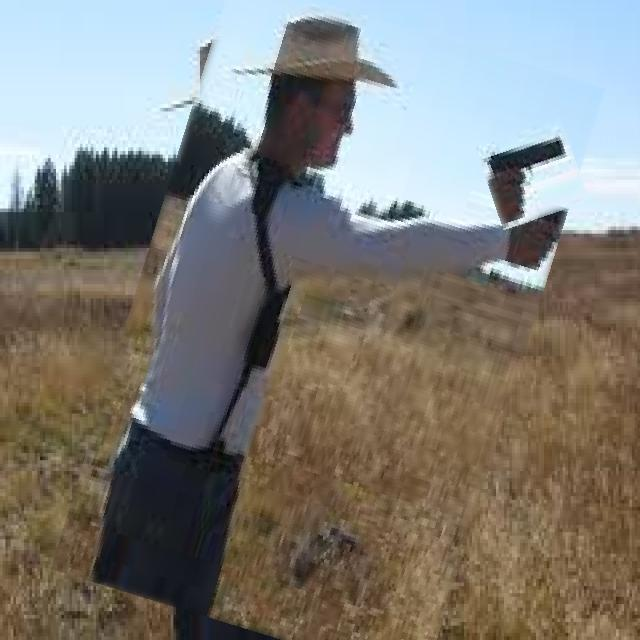Gun_Holder: (459, 123, 596, 252)
Person: (96, 19, 503, 615)
